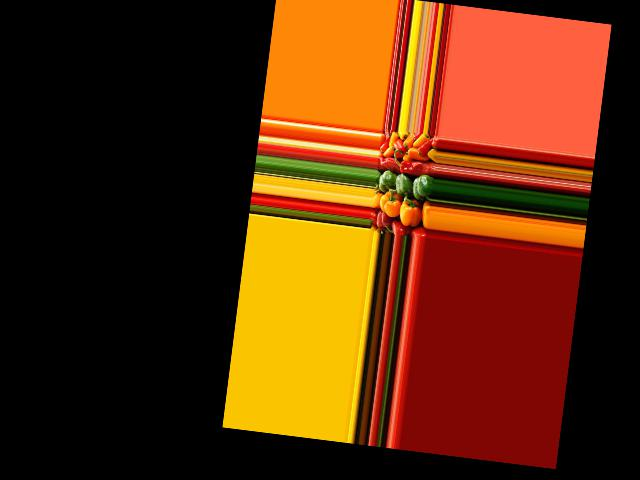bell_pepper: (416, 136, 434, 156)
